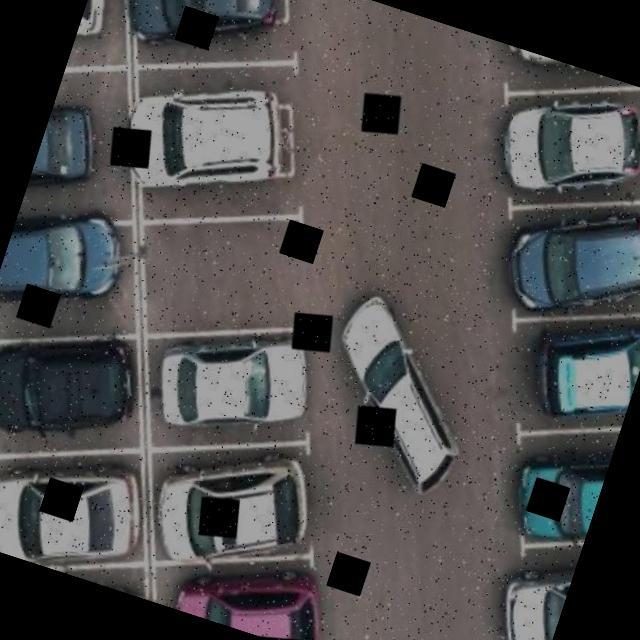Car: (292, 254, 516, 535), (88, 24, 330, 243), (120, 276, 354, 490), (117, 413, 350, 622), (0, 271, 181, 499), (459, 145, 640, 365), (0, 158, 170, 375), (0, 405, 189, 600), (460, 44, 640, 245), (474, 394, 622, 576), (492, 281, 640, 462), (162, 522, 355, 640), (15, 71, 141, 248), (101, 0, 306, 91), (463, 502, 589, 640), (480, 38, 640, 118), (2, 534, 166, 604), (59, 0, 152, 101)
Vacant: (116, 169, 346, 375)
